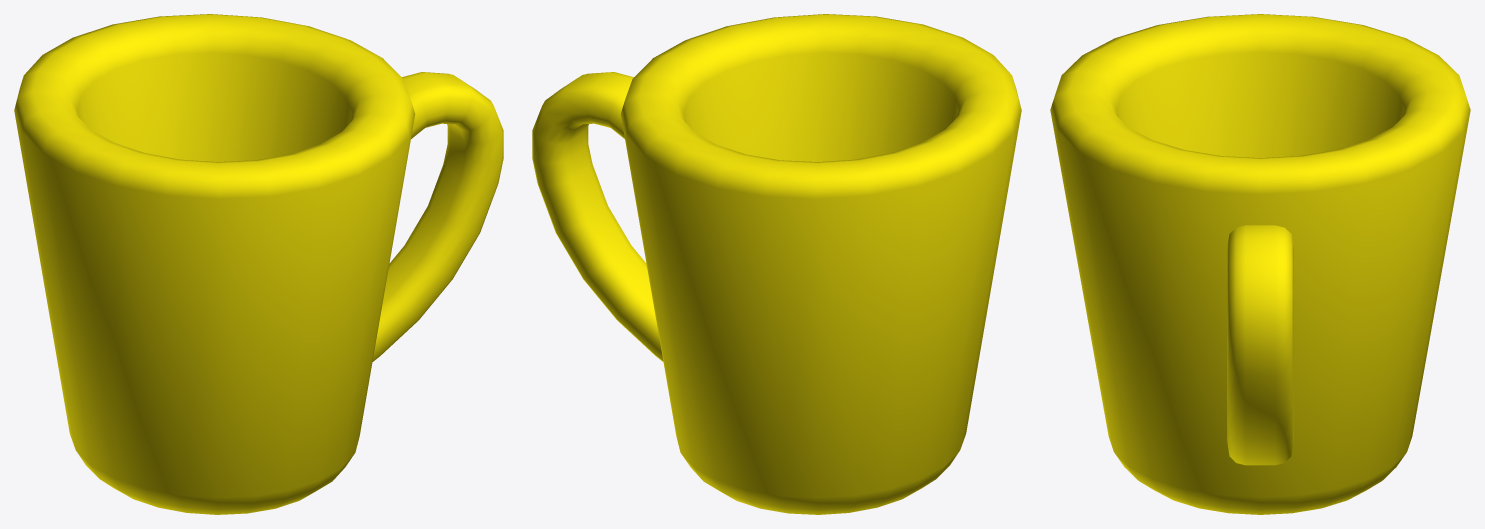
File: Mug2_yellow.fbx
3 renders of one model, left to right at view 1: azimuth 30°, elevation 25°; view 2: azimuth 150°, elevation 25°; view 3: azimuth 270°, elevation 25°, orthographic.
Parts seen in each view (by area): view 1: Mug2_Yellow; view 2: Mug2_Yellow; view 3: Mug2_Yellow.
Boxes of the visible parts, box(x1,y1,x2,y2) form: Mug2_Yellow: box(14, 14, 503, 514); Mug2_Yellow: box(532, 14, 1021, 514); Mug2_Yellow: box(1050, 14, 1470, 514).
Bounding box in the file's own units: 16.75 × 13.4 × 13.4.
